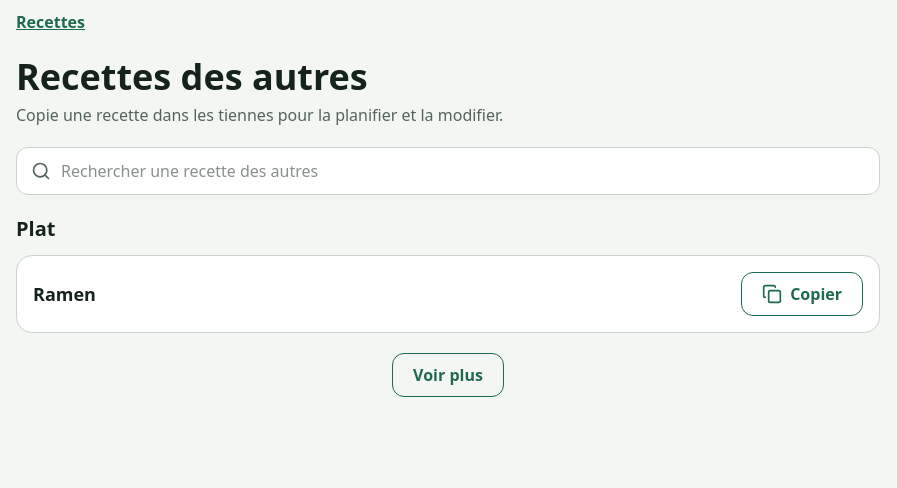
Test case: OtherRecipesView › charge la page suivante par « Voir plus » quand le total dépasse ce qui est affiché
Expected: the text "Tarte" is not shown
Step 1. Click the button "Voir plus" → (448, 375), box [392,353,504,397]
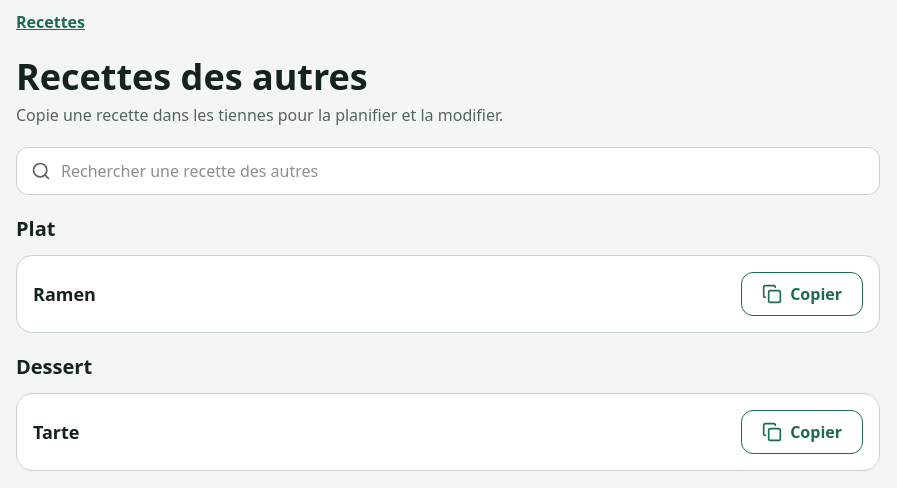
Expected: the text "Ramen" is shown, [33,282,96,306]
Now the text "Tarte" is shown, box [33,420,80,444]
